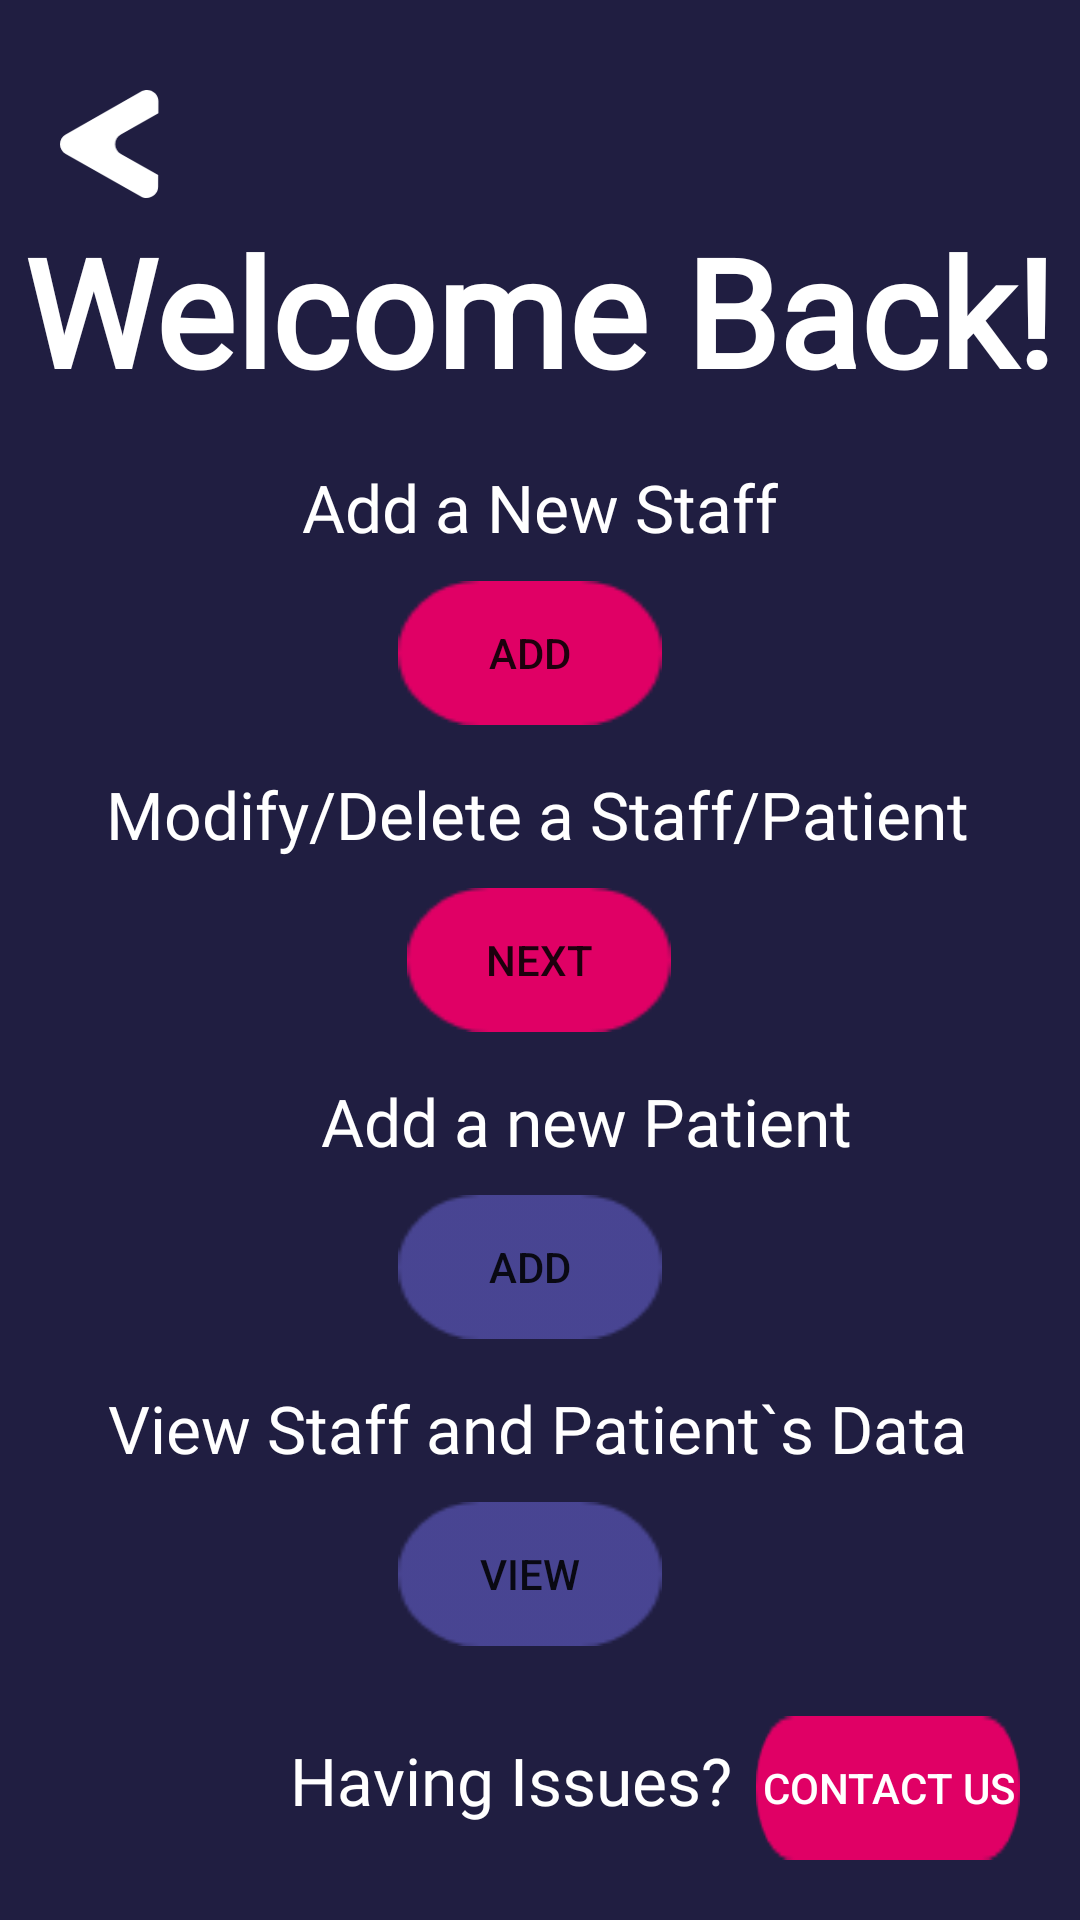

Icon bounding boxes for this 1080w x 1920h phone screenshot, format bbox(x1, y1, x2, y2):
backbtn: bbox(60, 90, 159, 198)
